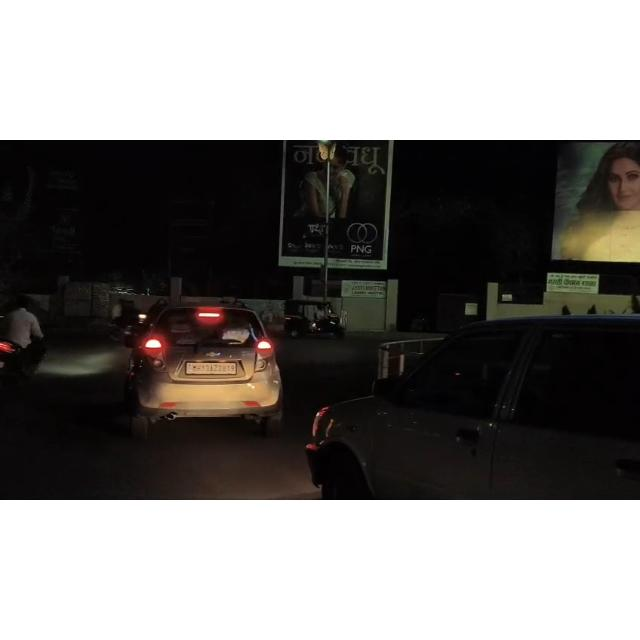auto: (282, 292, 350, 348)
car: (304, 296, 640, 500), (120, 293, 293, 453)
